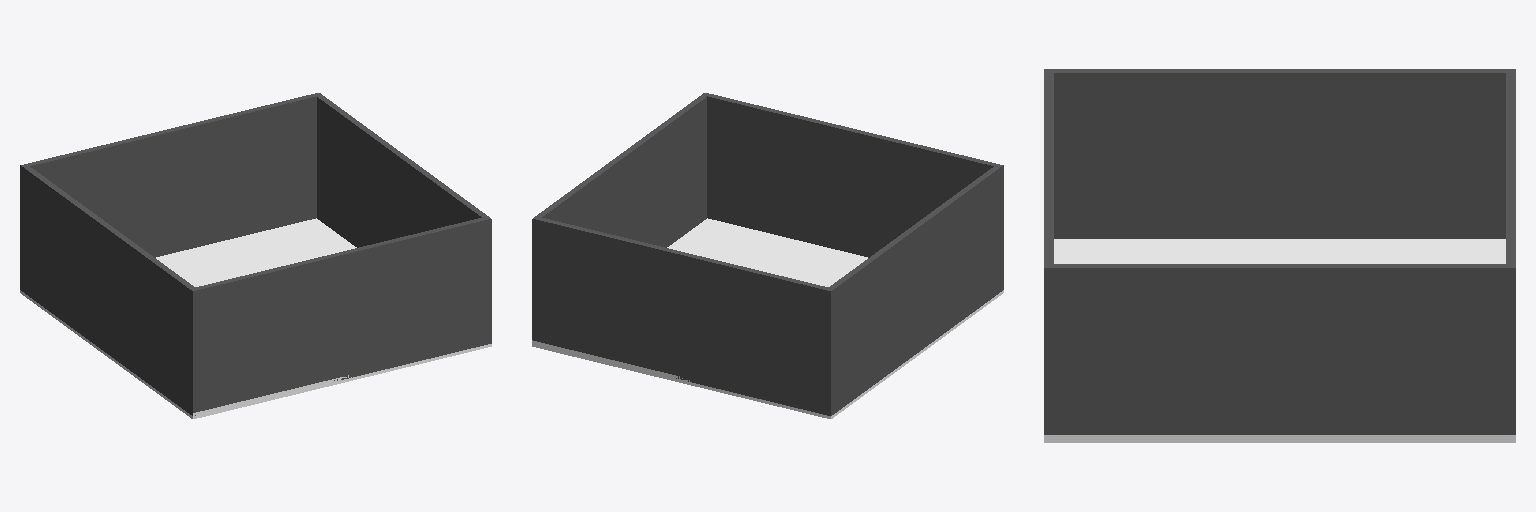
The robot description file, URDF, robot "shelf":
<?xml version="1.0" ?>
<!-- =================================================================================== -->
<!-- |    This document was autogenerated by xacro from shelf.urdf.xacro               | -->
<!-- |    EDITING THIS FILE BY HAND IS NOT RECOMMENDED                                 | -->
<!-- =================================================================================== -->
<!-- =================================================================================== -->
<!-- |    This document was autogenerated by xacro from panda_arm_hand.urdf.xacro      | -->
<!-- |    EDITING THIS FILE BY HAND IS NOT RECOMMENDED                                 | -->
<!-- =================================================================================== -->
<robot name="shelf">
  <link name="center"/>
  <link name="shelf_base">
    <visual>
      <geometry>
        <box size="1.25 1.25 0.025"/>
      </geometry>
      <material name="top"/>
    </visual>
    <collision>
      <geometry>
        <box size="1.25 1.25 0.025"/>
      </geometry>
      <material name="top"/>
    </collision>
  </link>
  <link name="shelf_side1">
    <visual>
      <geometry>
        <box size="0.5 1.25 0.025"/>
      </geometry>
      <material name="bottom"/>
    </visual>
    <collision>
      <geometry>
        <box size="0.5 1.25 0.025"/>
      </geometry>
      <material name="bottom"/>
    </collision>
  </link>
  <link name="shelf_side2">
    <visual>
      <geometry>
        <box size="0.5 1.25 0.025"/>
      </geometry>
      <material name="bottom"/>
    </visual>
    <collision>
      <geometry>
        <box size="0.5 1.25 0.025"/>
      </geometry>
      <material name="bottom"/>
    </collision>
  </link>
  <link name="shelf_side3">
    <visual>
      <geometry>
        <box size="0.5 1.25 0.025"/>
      </geometry>
      <material name="bottom"/>
    </visual>
    <collision>
      <geometry>
        <box size="0.5 1.25 0.025"/>
      </geometry>
      <material name="bottom"/>
    </collision>
  </link>
  <link name="shelf_side4">
    <visual>
      <geometry>
        <box size="0.5 1.25 0.025"/>
      </geometry>
      <material name="bottom"/>
    </visual>
    <collision>
      <geometry>
        <box size="0.5 1.25 0.025"/>
      </geometry>
      <material name="bottom"/>
    </collision>
  </link>
  <joint name="center_base_joint" type="fixed">
    <parent link="center"/>
    <child link="shelf_base"/>
    <origin rpy="0 0 0 " xyz="0 0 -0.25"/>
  </joint>
  <joint name="shelf_joint1" type="fixed">
    <parent link="shelf_base"/>
    <child link="shelf_side1"/>
    <origin rpy="1.5708 1.5708 0 " xyz="0 0.6125 0.25"/>
  </joint>
  <joint name="shelf_joint2" type="fixed">
    <parent link="shelf_base"/>
    <child link="shelf_side2"/>
    <origin rpy="1.5708 1.5708 0 " xyz="0 -0.6125 0.25"/>
  </joint>
  <joint name="shelf_joint3" type="fixed">
    <parent link="shelf_base"/>
    <child link="shelf_side3"/>
    <origin rpy="0 1.5708 0 " xyz="0.6125  0 0.25"/>
  </joint>
  <joint name="shelf_joint4" type="fixed">
    <parent link="shelf_base"/>
    <child link="shelf_side4"/>
    <origin rpy="0 1.5708 0 " xyz="-0.6125 0 0.25"/>
  </joint>
  <material name="top">
    <color rgba="1. 1. 1. 1."/>
  </material>
  <material name="bottom">
    <color rgba=".4 .4 .4 1."/>
  </material>
</robot>

--- Facts derived from the render (not from the file) ---
The picture shows the robot from 3 angles, left to right: view 1: azimuth 30°, elevation 25°; view 2: azimuth 150°, elevation 25°; view 3: azimuth 270°, elevation 25°; orthographic projection.
Model shelf with 6 links and 5 joints (5 fixed), rooted at center, posed all joints at 0.
Visible links, largest first — view 1: shelf_side2, shelf_side1, shelf_side4, shelf_side3, shelf_base; view 2: shelf_side1, shelf_side2, shelf_side4, shelf_side3, shelf_base; view 3: shelf_side3, shelf_side4, shelf_base, shelf_side1, shelf_side2.
Link boxes in pixels (left/top/right/bottom): shelf_side2: left=189, top=218, right=491, bottom=415; shelf_side1: left=21, top=94, right=316, bottom=291; shelf_side4: left=20, top=165, right=198, bottom=415; shelf_side3: left=314, top=93, right=490, bottom=247; shelf_base: left=20, top=218, right=491, bottom=418; shelf_side1: left=538, top=218, right=834, bottom=415; shelf_side2: left=707, top=94, right=1003, bottom=291; shelf_side4: left=829, top=166, right=1002, bottom=412; shelf_side3: left=532, top=93, right=709, bottom=341; shelf_base: left=532, top=218, right=1003, bottom=418; shelf_side3: left=1044, top=264, right=1515, bottom=434; shelf_side4: left=1054, top=69, right=1505, bottom=238; shelf_base: left=1044, top=239, right=1515, bottom=442; shelf_side1: left=1506, top=69, right=1515, bottom=434; shelf_side2: left=1044, top=69, right=1053, bottom=434.
Bounding box of the posed robot: 1.25 × 1.25 × 0.5125 m (x, y, z).
Geometry: primitives only (box / cylinder / sphere), no mesh files.